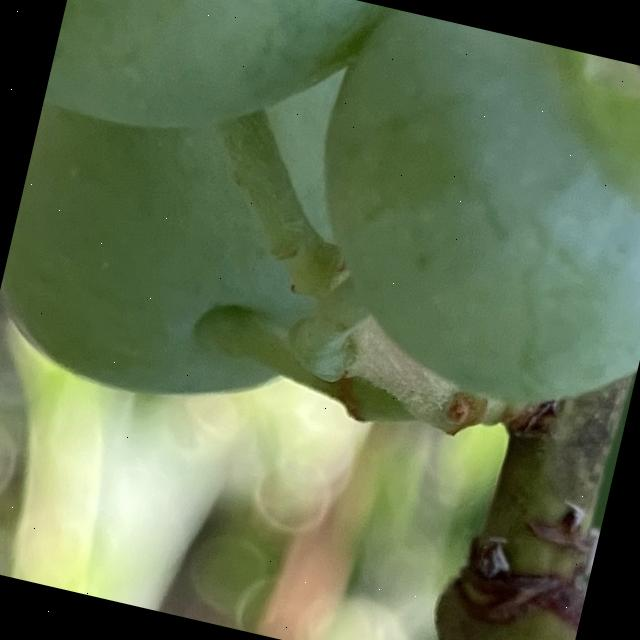Blueberries: (273, 0, 640, 438), (38, 0, 407, 193)
